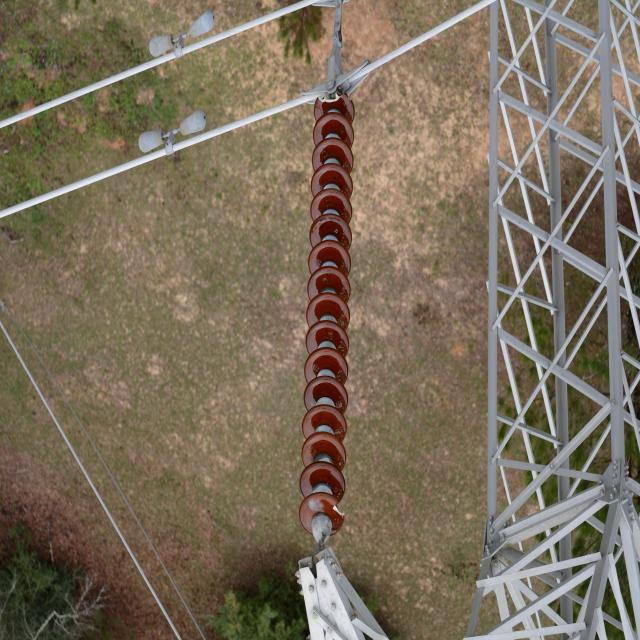broken: (328, 495, 347, 521), (317, 93, 345, 105)
insulator: (298, 92, 356, 537)
